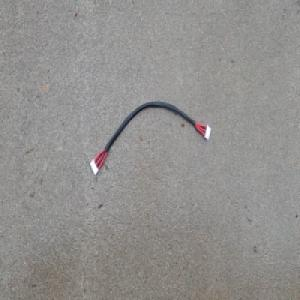Wire: (89, 98, 211, 176)
